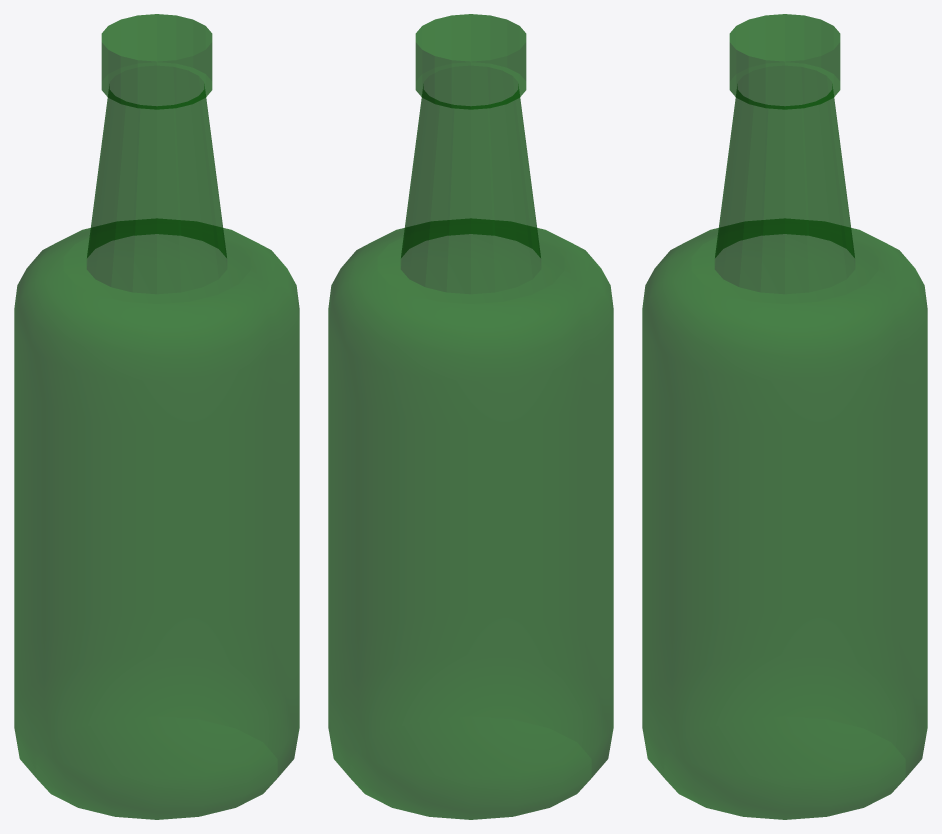
Rendered from GarrafaUnity.FBX.
3 views of the same model, side by side, from view 1: azimuth 30°, elevation 25°; view 2: azimuth 150°, elevation 25°; view 3: azimuth 270°, elevation 25° (orthographic).
Visible parts, largest first — view 1: Cylinder001; view 2: Cylinder001; view 3: Cylinder001.
Part boxes in pixels (x1,y1,x2,y2): Cylinder001: [14, 14, 299, 819]; Cylinder001: [328, 14, 613, 819]; Cylinder001: [642, 14, 927, 819].
Bounding box in the file's own units: 6.65 × 18.64 × 6.55.
